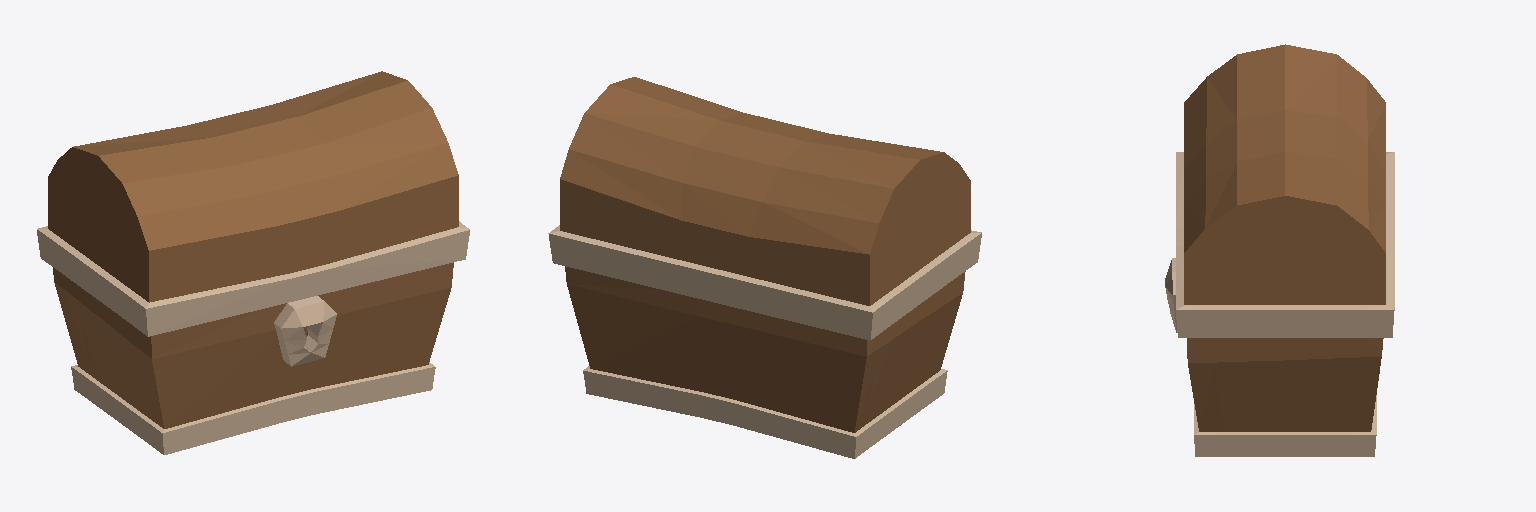
The model's file is chest.obj.
3 renders of one model, left to right at view 1: azimuth 30°, elevation 25°; view 2: azimuth 150°, elevation 25°; view 3: azimuth 270°, elevation 25°, orthographic.
Bounding box in the file's own units: 6.51 × 5.21 × 3.98.